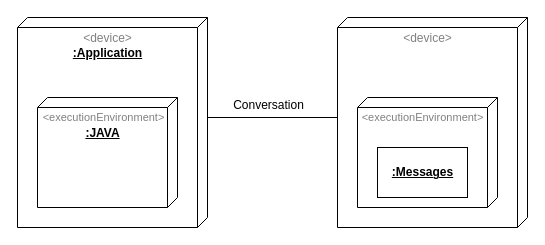
Some shapes in this 545 by 245 pixel diagram are drawn without their labels. The box of each missing label's shape, as (x1, y1, x2, y2) in pixels:
:DatabaseServer: (336, 16, 528, 228)
:RDBMS: (356, 96, 498, 208)
